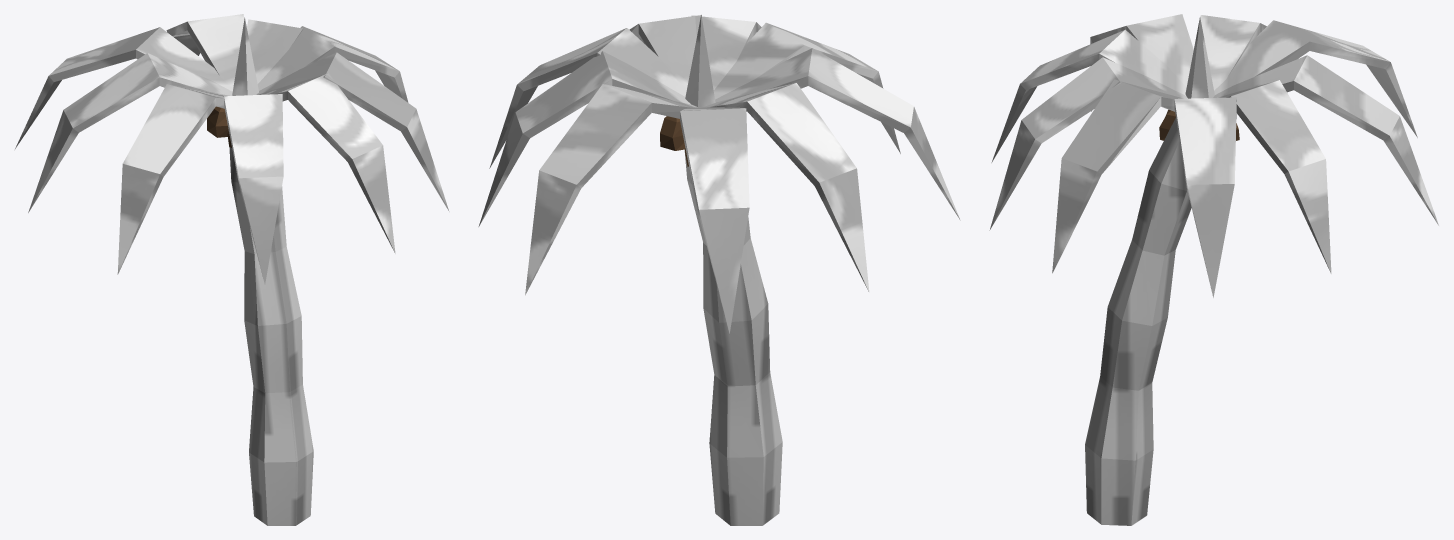
Rendered from tree_palm_2.obj.
3 renders of one model, left to right at view 1: azimuth 30°, elevation 25°; view 2: azimuth 150°, elevation 25°; view 3: azimuth 270°, elevation 25°, orthographic. The views are drawn at different scales.
Visible parts, largest first — view 1: tree_palm_2; view 2: tree_palm_2; view 3: tree_palm_2.
Boxes of the visible parts, left/top/right/bottom form: tree_palm_2: left=15, top=14, right=449, bottom=525; tree_palm_2: left=478, top=15, right=960, bottom=525; tree_palm_2: left=989, top=14, right=1438, bottom=525.
Size of the model in its own units: 0.8594 by 1.06 by 0.8666.
